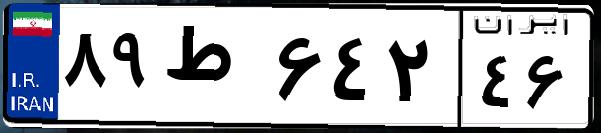2: (385, 28, 445, 110)
4: (330, 28, 385, 110), (475, 38, 525, 113)
6: (270, 28, 330, 110), (525, 38, 570, 115)
8: (57, 26, 110, 100)
9: (110, 28, 158, 98)
ط: (158, 20, 270, 120)
